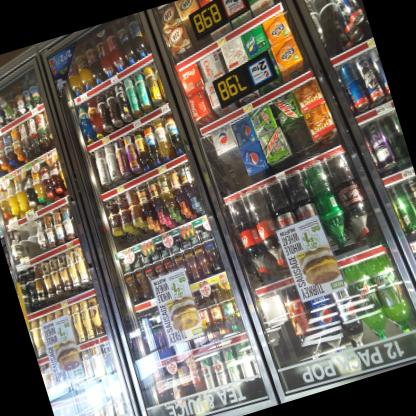empty_space: (259, 288, 293, 345)
